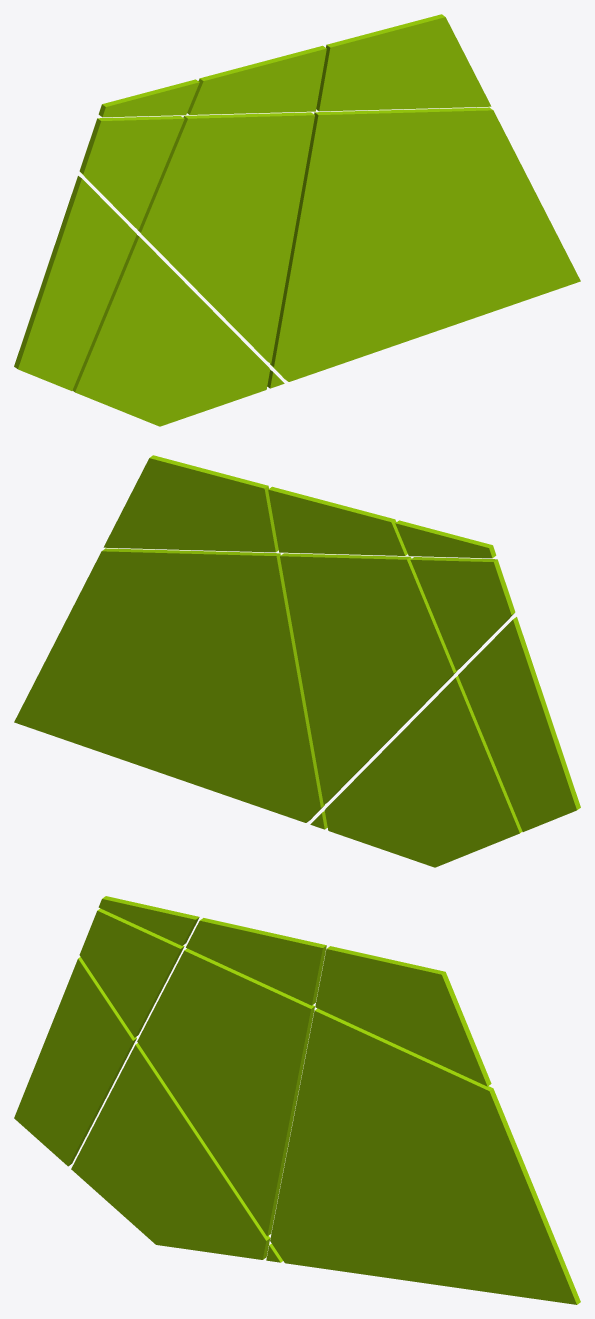
The model's file is output_with_offset_polygons.glb.
3 renders of one model, top to bottom at view 1: azimuth 30°, elevation 25°; view 2: azimuth 150°, elevation 25°; view 3: azimuth 330°, elevation 25°, orthographic.
Visible parts, largest first — view 1: world; view 2: world; view 3: world.
Boxes of the visible parts, x1,y1,x2,y2 form: world: [14, 14, 580, 426]; world: [14, 455, 580, 867]; world: [14, 896, 580, 1304].
Size of the model in its own units: 82.31 by 47.49 by 1.
